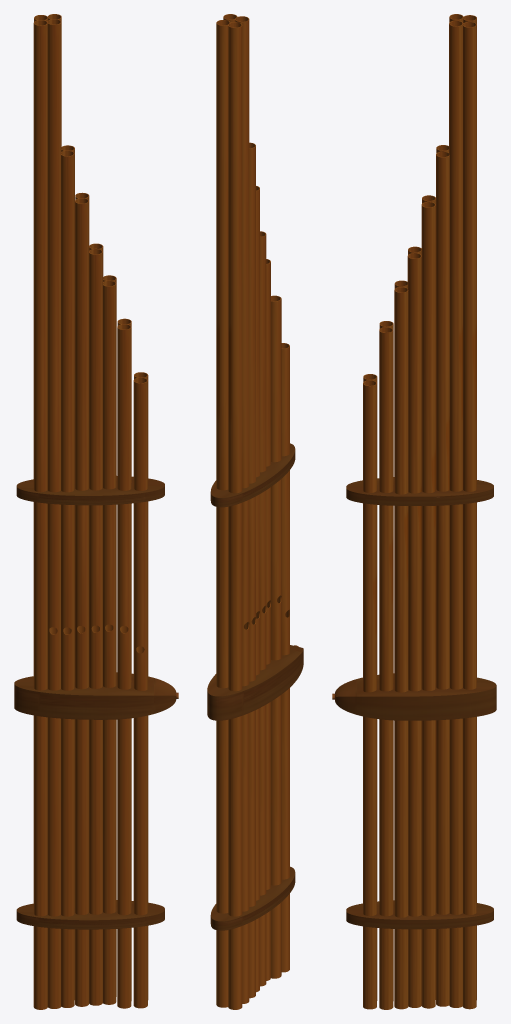
File: kane.glb
The picture shows the model from 3 angles, left to right: view 1: azimuth 90°, elevation 25°; view 2: azimuth 150°, elevation 25°; view 3: azimuth 270°, elevation 25°; orthographic projection.
Parts seen in each view (by area): view 1: ทรงกระบอก.011, ลูกบาศก์.001, ลูกบาศก์.002, ลูกบาศก์; view 2: ทรงกระบอก.011, ลูกบาศก์.001, ลูกบาศก์.002, ลูกบาศก์; view 3: ทรงกระบอก.011, ลูกบาศก์.001, ลูกบาศก์.002, ลูกบาศก์.
Boxes of the visible parts, x1=… form: ทรงกระบอก.011: x1=33, y1=14, x2=148, y2=1009; ลูกบาศก์.001: x1=14, y1=672, x2=176, y2=719; ลูกบาศก์.002: x1=16, y1=900, x2=164, y2=929; ลูกบาศก์: x1=16, y1=476, x2=164, y2=505; ทรงกระบอก.011: x1=216, y1=14, x2=289, y2=1009; ลูกบาศก์.001: x1=207, y1=645, x2=303, y2=720; ลูกบาศก์.002: x1=210, y1=866, x2=295, y2=930; ลูกบาศก์: x1=210, y1=443, x2=295, y2=507; ทรงกระบอก.011: x1=363, y1=14, x2=476, y2=1009; ลูกบาศก์.001: x1=335, y1=673, x2=496, y2=720; ลูกบาศก์.002: x1=346, y1=900, x2=493, y2=929; ลูกบาศก์: x1=346, y1=477, x2=493, y2=505.
Size of the model in its own units: 3.95 by 77.3 by 11.69.
Materials: 5 (5 with a texture image).
